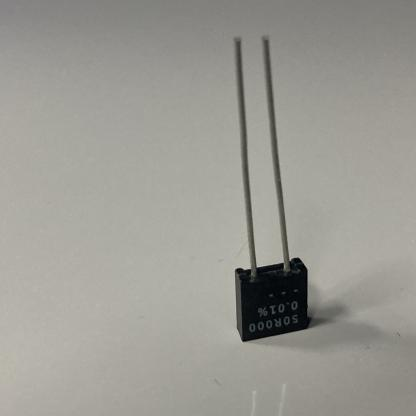SP0000008: (152, 4, 381, 388)
